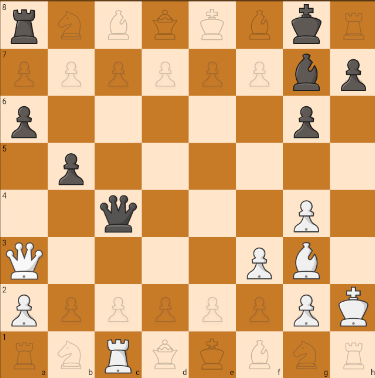bb: (284, 51, 330, 93)
bk: (284, 2, 329, 47)
bp: (49, 146, 90, 187), (3, 100, 42, 140), (286, 101, 327, 139), (334, 51, 372, 91)
bq: (94, 191, 141, 235)
br: (2, 1, 44, 48)
wb: (288, 240, 324, 281)
wk: (335, 287, 374, 329)
wp: (4, 287, 43, 328), (289, 288, 323, 328), (242, 242, 274, 281), (290, 195, 322, 234)
wq: (0, 238, 45, 283)
wr: (97, 333, 139, 374)
